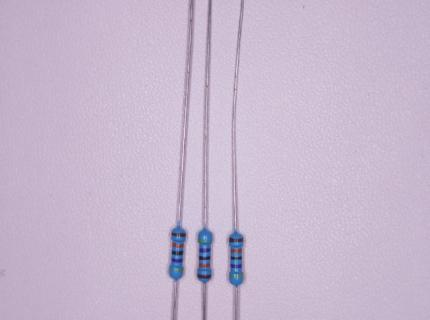Black band: (172, 250, 183, 256), (230, 256, 242, 260), (199, 256, 210, 260)
Brown band: (171, 232, 186, 237), (228, 238, 243, 243), (197, 274, 211, 279)
Orange band: (172, 243, 184, 248), (199, 263, 210, 268), (230, 249, 242, 253)
Violet band: (171, 258, 183, 263), (230, 264, 242, 269), (199, 248, 210, 252)
Yellow band: (229, 274, 244, 278), (198, 239, 212, 243), (169, 268, 183, 272)
